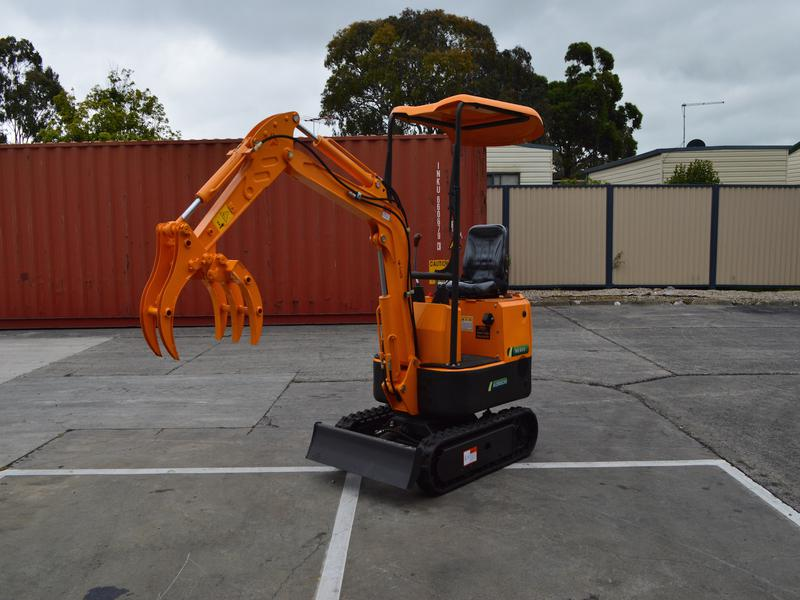shovel: (135, 88, 558, 503)
